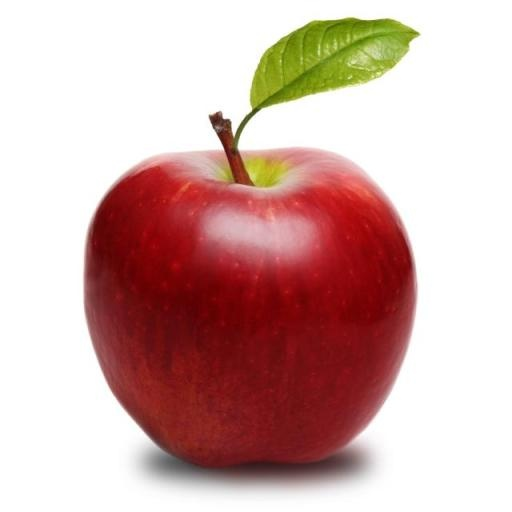fruit: (85, 19, 417, 466)
